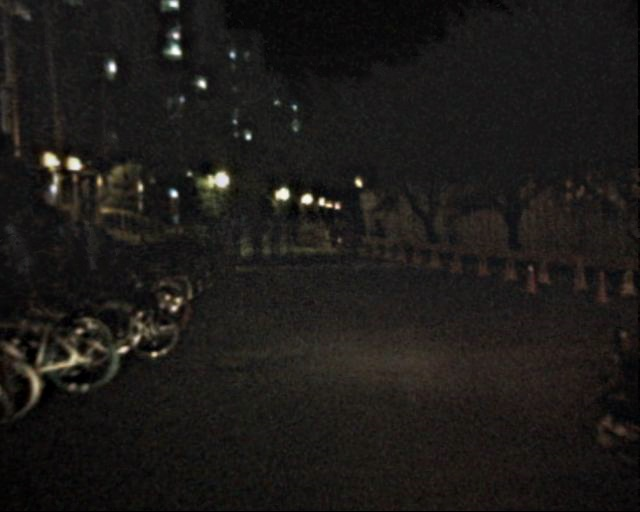person: (7, 222, 33, 285), (211, 215, 248, 250), (80, 220, 103, 276), (103, 221, 122, 268), (372, 218, 391, 264), (249, 216, 268, 262), (268, 221, 284, 260), (285, 217, 301, 240)
